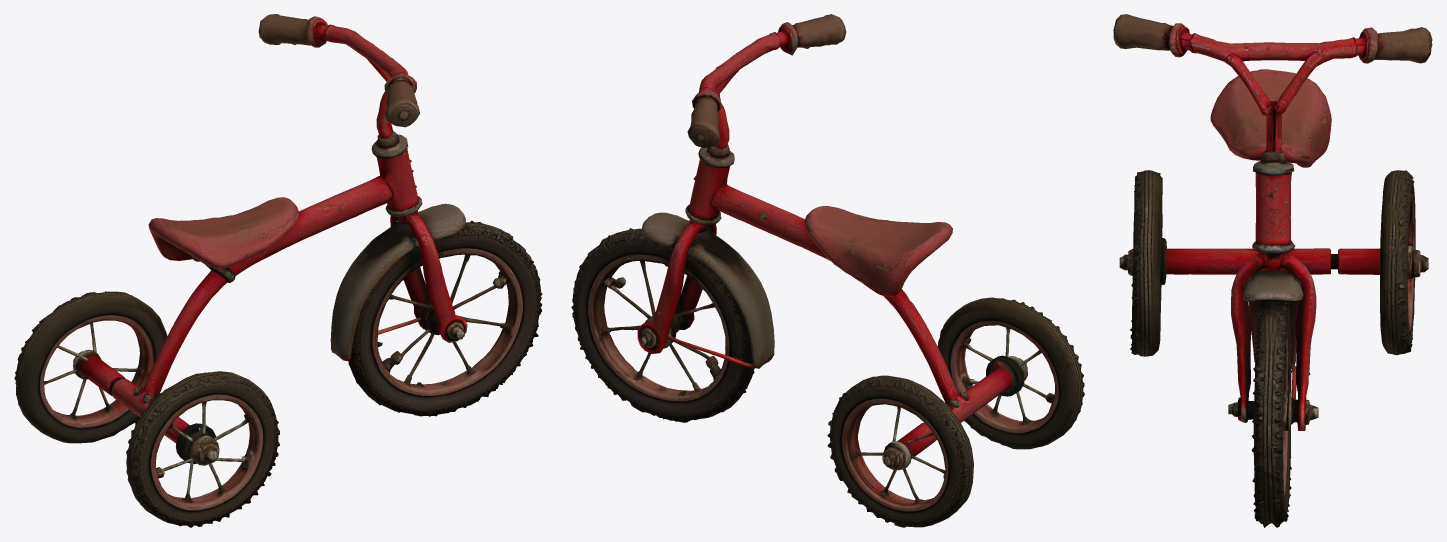
3 views of the same model, side by side, from view 1: azimuth 30°, elevation 25°; view 2: azimuth 150°, elevation 25°; view 3: azimuth 270°, elevation 25° (orthographic). The views are drawn at different scales.
Visible parts, largest first — view 1: tripo_node_faf61e3c-99f9-4e43-9944-808208b5e176; view 2: tripo_node_faf61e3c-99f9-4e43-9944-808208b5e176; view 3: tripo_node_faf61e3c-99f9-4e43-9944-808208b5e176.
Part boxes in pixels (<box>): tripo_node_faf61e3c-99f9-4e43-9944-808208b5e176: <box>14,14,542,527</box>; tripo_node_faf61e3c-99f9-4e43-9944-808208b5e176: <box>571,14,1084,527</box>; tripo_node_faf61e3c-99f9-4e43-9944-808208b5e176: <box>1113,14,1432,527</box>.
Bounding box in the file's own units: 1 × 0.8038 × 0.5233.
Materials: 1 (1 with a texture image).
